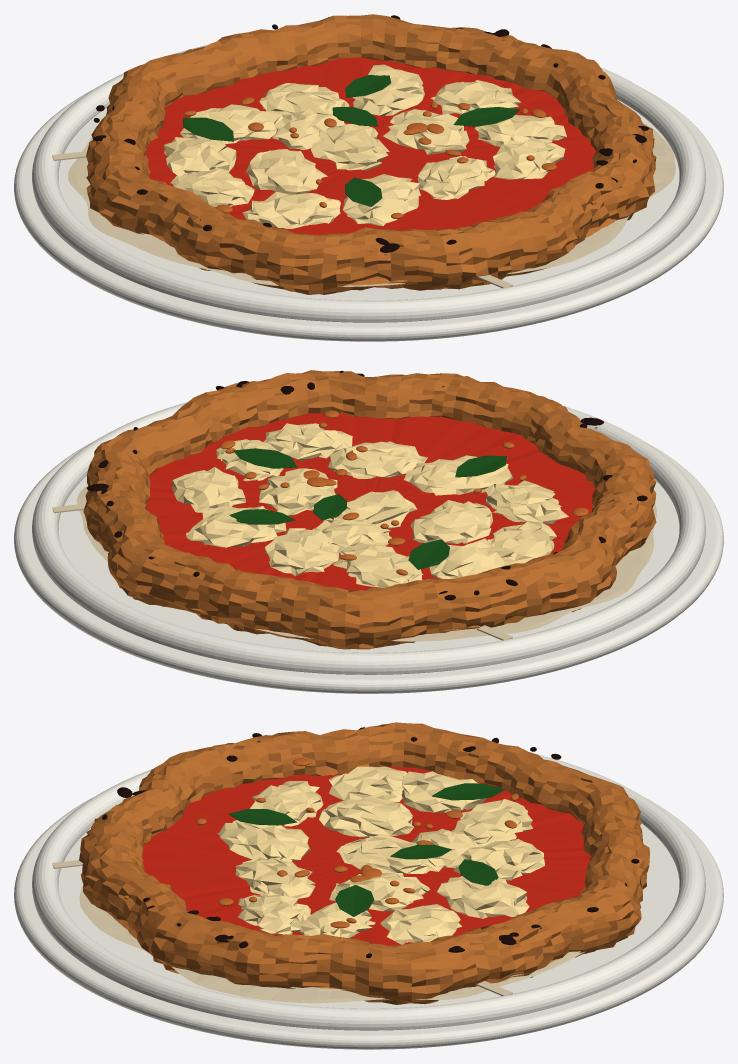
The model's file is pizza_modern_plate1.glb.
3 renders of one model, top to bottom at view 1: azimuth 30°, elevation 25°; view 2: azimuth 150°, elevation 25°; view 3: azimuth 270°, elevation 25°, orthographic.
Visible parts, largest first — view 1: Irregular Puffy Neapolitan Crust, Elegant Raised Plate Rim, Uneven Tomato Sauce, Modern Minimalist Ceramic Plate, Plate Inner Surface, Parchment Sheet, Melted Mozzarella.006, Melted Mozzarella.007, Melted Mozzarella.010, Melted Mozzarella.012, Melted Mozzarella.008, Melted Mozzarella.011 (+14 smaller); view 2: Irregular Puffy Neapolitan Crust, Elegant Raised Plate Rim, Uneven Tomato Sauce, Modern Minimalist Ceramic Plate, Plate Inner Surface, Parchment Sheet, Melted Mozzarella.006, Melted Mozzarella.002, Melted Mozzarella.012, Melted Mozzarella.001, Melted Mozzarella.010, Melted Mozzarella.003 (+14 smaller); view 3: Irregular Puffy Neapolitan Crust, Elegant Raised Plate Rim, Uneven Tomato Sauce, Modern Minimalist Ceramic Plate, Plate Inner Surface, Parchment Sheet, Melted Mozzarella.006, Melted Mozzarella.003, Melted Mozzarella.011, Melted Mozzarella.001, Melted Mozzarella.007, Melted Mozzarella.004 (+14 smaller).
Boxes of the visible parts, x1=… form: Irregular Puffy Neapolitan Crust: x1=86, y1=14, x2=656, y2=294; Elegant Raised Plate Rim: x1=32, y1=44, x2=705, y2=322; Uneven Tomato Sauce: x1=145, y1=57, x2=596, y2=235; Modern Minimalist Ceramic Plate: x1=14, y1=89, x2=723, y2=341; Plate Inner Surface: x1=58, y1=99, x2=679, y2=300; Parchment Sheet: x1=68, y1=122, x2=675, y2=286; Melted Mozzarella.006: x1=245, y1=149, x2=327, y2=194; Melted Mozzarella.007: x1=311, y1=124, x2=389, y2=170; Melted Mozzarella.010: x1=242, y1=191, x2=340, y2=228; Melted Mozzarella.012: x1=418, y1=155, x2=495, y2=199; Melted Mozzarella.008: x1=383, y1=109, x2=469, y2=154; Melted Mozzarella.011: x1=343, y1=174, x2=420, y2=226; Irregular Puffy Neapolitan Crust: x1=83, y1=370, x2=656, y2=649; Elegant Raised Plate Rim: x1=32, y1=402, x2=705, y2=674; Uneven Tomato Sauce: x1=146, y1=413, x2=595, y2=590; Modern Minimalist Ceramic Plate: x1=14, y1=441, x2=723, y2=693; Plate Inner Surface: x1=58, y1=476, x2=679, y2=652; Parchment Sheet: x1=77, y1=485, x2=657, y2=641; Melted Mozzarella.006: x1=410, y1=500, x2=492, y2=543; Melted Mozzarella.002: x1=265, y1=528, x2=339, y2=576; Melted Mozzarella.012: x1=328, y1=441, x2=427, y2=478; Melted Mozzarella.001: x1=333, y1=544, x2=423, y2=588; Melted Mozzarella.010: x1=484, y1=480, x2=568, y2=523; Melted Mozzarella.003: x1=186, y1=505, x2=286, y2=547; Irregular Puffy Neapolitan Crust: x1=79, y1=722, x2=649, y2=1004; Elegant Raised Plate Rim: x1=32, y1=754, x2=705, y2=1030; Uneven Tomato Sauce: x1=142, y1=766, x2=591, y2=945; Modern Minimalist Ceramic Plate: x1=14, y1=797, x2=723, y2=1049; Plate Inner Surface: x1=58, y1=823, x2=679, y2=1008; Parchment Sheet: x1=79, y1=885, x2=585, y2=1003; Melted Mozzarella.006: x1=319, y1=797, x2=414, y2=837; Melted Mozzarella.003: x1=437, y1=876, x2=529, y2=918; Melted Mozzarella.011: x1=217, y1=820, x2=310, y2=861; Melted Mozzarella.001: x1=451, y1=799, x2=532, y2=847; Melted Mozzarella.007: x1=336, y1=834, x2=443, y2=873; Melted Mozzarella.004: x1=380, y1=904, x2=461, y2=944.
Bounding box in the file's own units: 7.5 × 0.8536 × 7.5.
